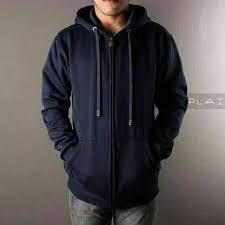sweater: (33, 5, 187, 208)
